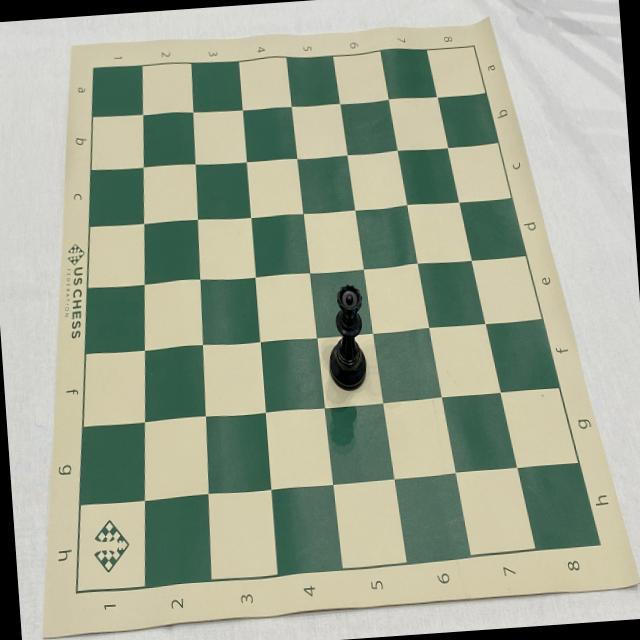black-queen: (323, 282, 369, 392)
